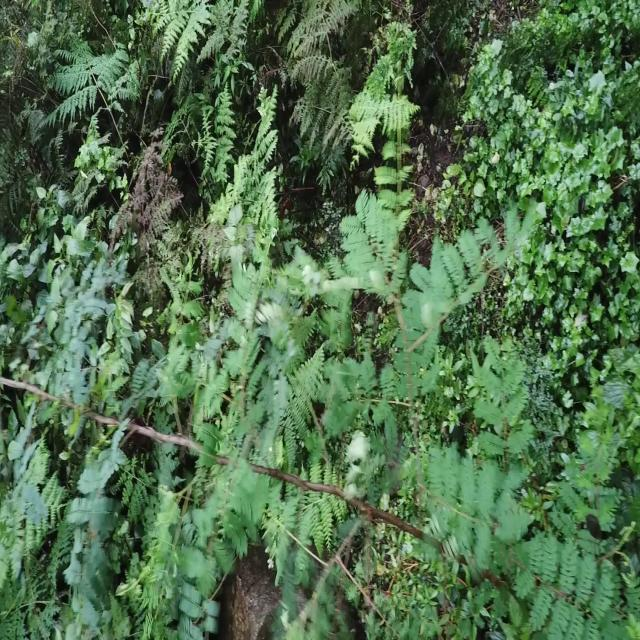Mysore-Thorn-Weed: (5, 224, 640, 640)
